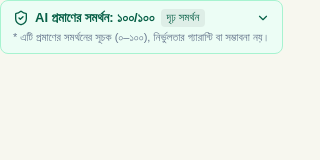
Test case: Phase 15: ConfidenceBadge Component › expands claim details when clicked and shows approval requirement disclaimer
The image size is (320, 160).
Click the button named "expand claim details".
click(263, 18)  # box 256,11 -> 270,25
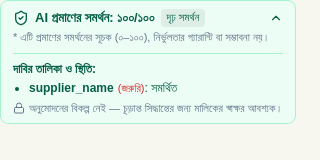
Now the text "supplier_name" is shown, box 29,80 -> 114,94
Now the text "অনুমোদনের বিকল্প নেই" is shown, box 29,102 -> 283,114
